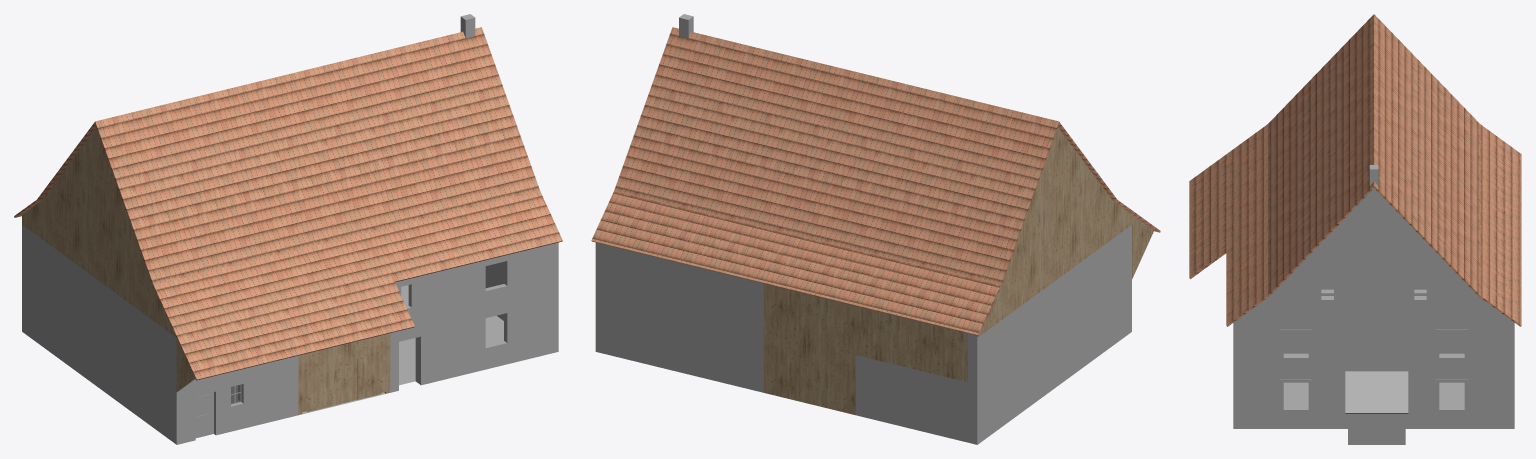
File: Essai02.fbx
3 renders of one model, left to right at view 1: azimuth 30°, elevation 25°; view 2: azimuth 150°, elevation 25°; view 3: azimuth 270°, elevation 25°, orthographic. The views are drawn at different scales.
Visible parts, largest first — view 1: Toit - Tuiles terre-cuite, Surface IFC (1), Bois - Pin granuleux vertical; view 2: Toit - Tuiles terre-cuite, Surface IFC (1), Bois - Pin granuleux vertical; view 3: Toit - Tuiles terre-cuite, Surface IFC (1).
Boxes of the visible parts, box(x1,y1,x2,y2) form: Toit - Tuiles terre-cuite: box(14, 27, 562, 380); Surface IFC (1): box(22, 14, 558, 444); Bois - Pin granuleux vertical: box(22, 127, 390, 414); Toit - Tuiles terre-cuite: box(591, 27, 1160, 335); Surface IFC (1): box(595, 14, 1131, 444); Bois - Pin granuleux vertical: box(763, 127, 1154, 415); Toit - Tuiles terre-cuite: box(1189, 14, 1521, 326); Surface IFC (1): box(1233, 165, 1514, 444).
Size of the model in its own units: 17.82 by 11.24 by 13.23.
4 materials, 2 textured.
